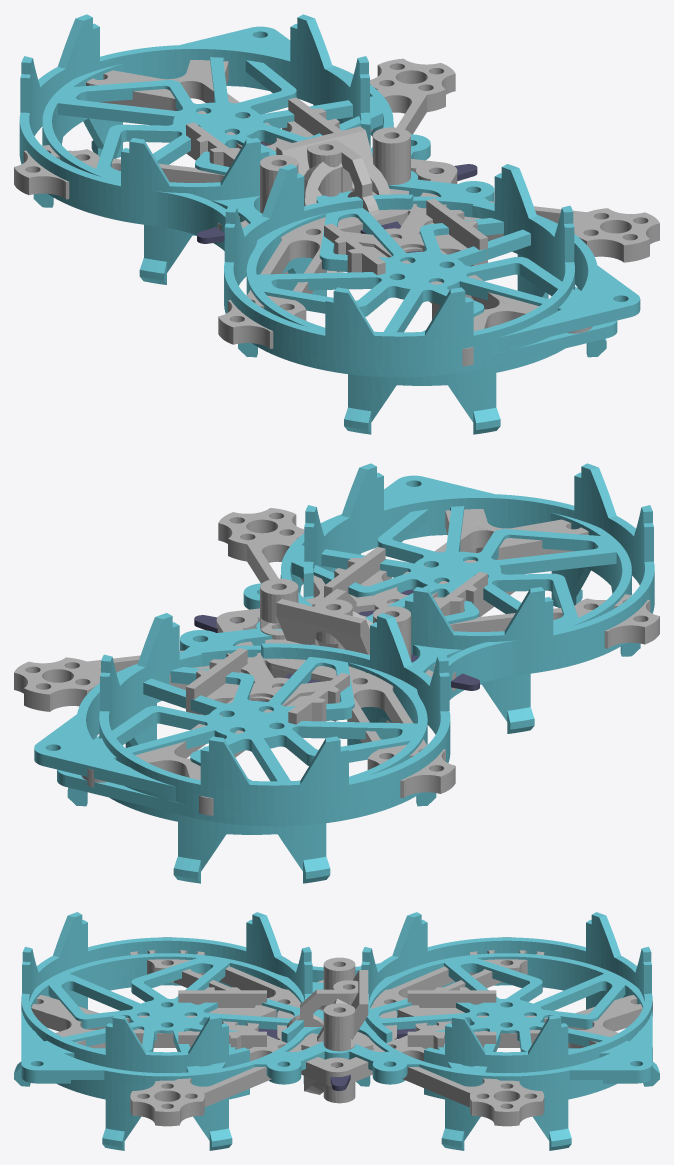
Rendered from bateleur.v0.2.4.squashed.glb.
3 renders of one model, top to bottom at view 1: azimuth 30°, elevation 25°; view 2: azimuth 150°, elevation 25°; view 3: azimuth 270°, elevation 25°, orthographic. The views are drawn at different scales.
Parts seen in each view (by area): view 1: PropguardsTop, PropguardsBottom, Coretop, Batteryplate, Antennamount, Corebottom, CameraBracket, Prop; view 2: PropguardsTop, PropguardsBottom, Coretop, Batteryplate, Antennamount, Corebottom, CameraBracket, Prop; view 3: PropguardsTop, PropguardsBottom, Coretop, Batteryplate, Antennamount, Corebottom, CameraBracket, Prop.
Part boxes in pixels (<box>): PropguardsTop: <box>33,26,640,434</box>; PropguardsBottom: <box>19,14,617,377</box>; Coretop: <box>14,58,659,348</box>; Batteryplate: <box>186,97,487,275</box>; Antennamount: <box>260,126,410,273</box>; Corebottom: <box>86,62,592,366</box>; CameraBracket: <box>307,140,379,215</box>; Prop: <box>197,142,477,252</box>; PropguardsTop: <box>34,475,640,883</box>; PropguardsBottom: <box>57,463,654,826</box>; Coretop: <box>14,508,659,815</box>; Batteryplate: <box>186,546,487,724</box>; Antennamount: <box>260,578,411,722</box>; Corebottom: <box>174,526,566,757</box>; CameraBracket: <box>314,589,356,649</box>; Prop: <box>194,589,479,701</box>; PropguardsTop: <box>14,953,659,1150</box>; PropguardsBottom: <box>21,912,652,1084</box>; Coretop: <box>31,937,652,1126</box>; Batteryplate: <box>178,987,496,1082</box>; Antennamount: <box>304,957,368,1103</box>; Corebottom: <box>31,999,637,1086</box>; CameraBracket: <box>287,980,358,1027</box>; Prop: <box>258,1028,415,1090</box>.
Bounding box in the file's own units: 78 × 25.35 × 122.
